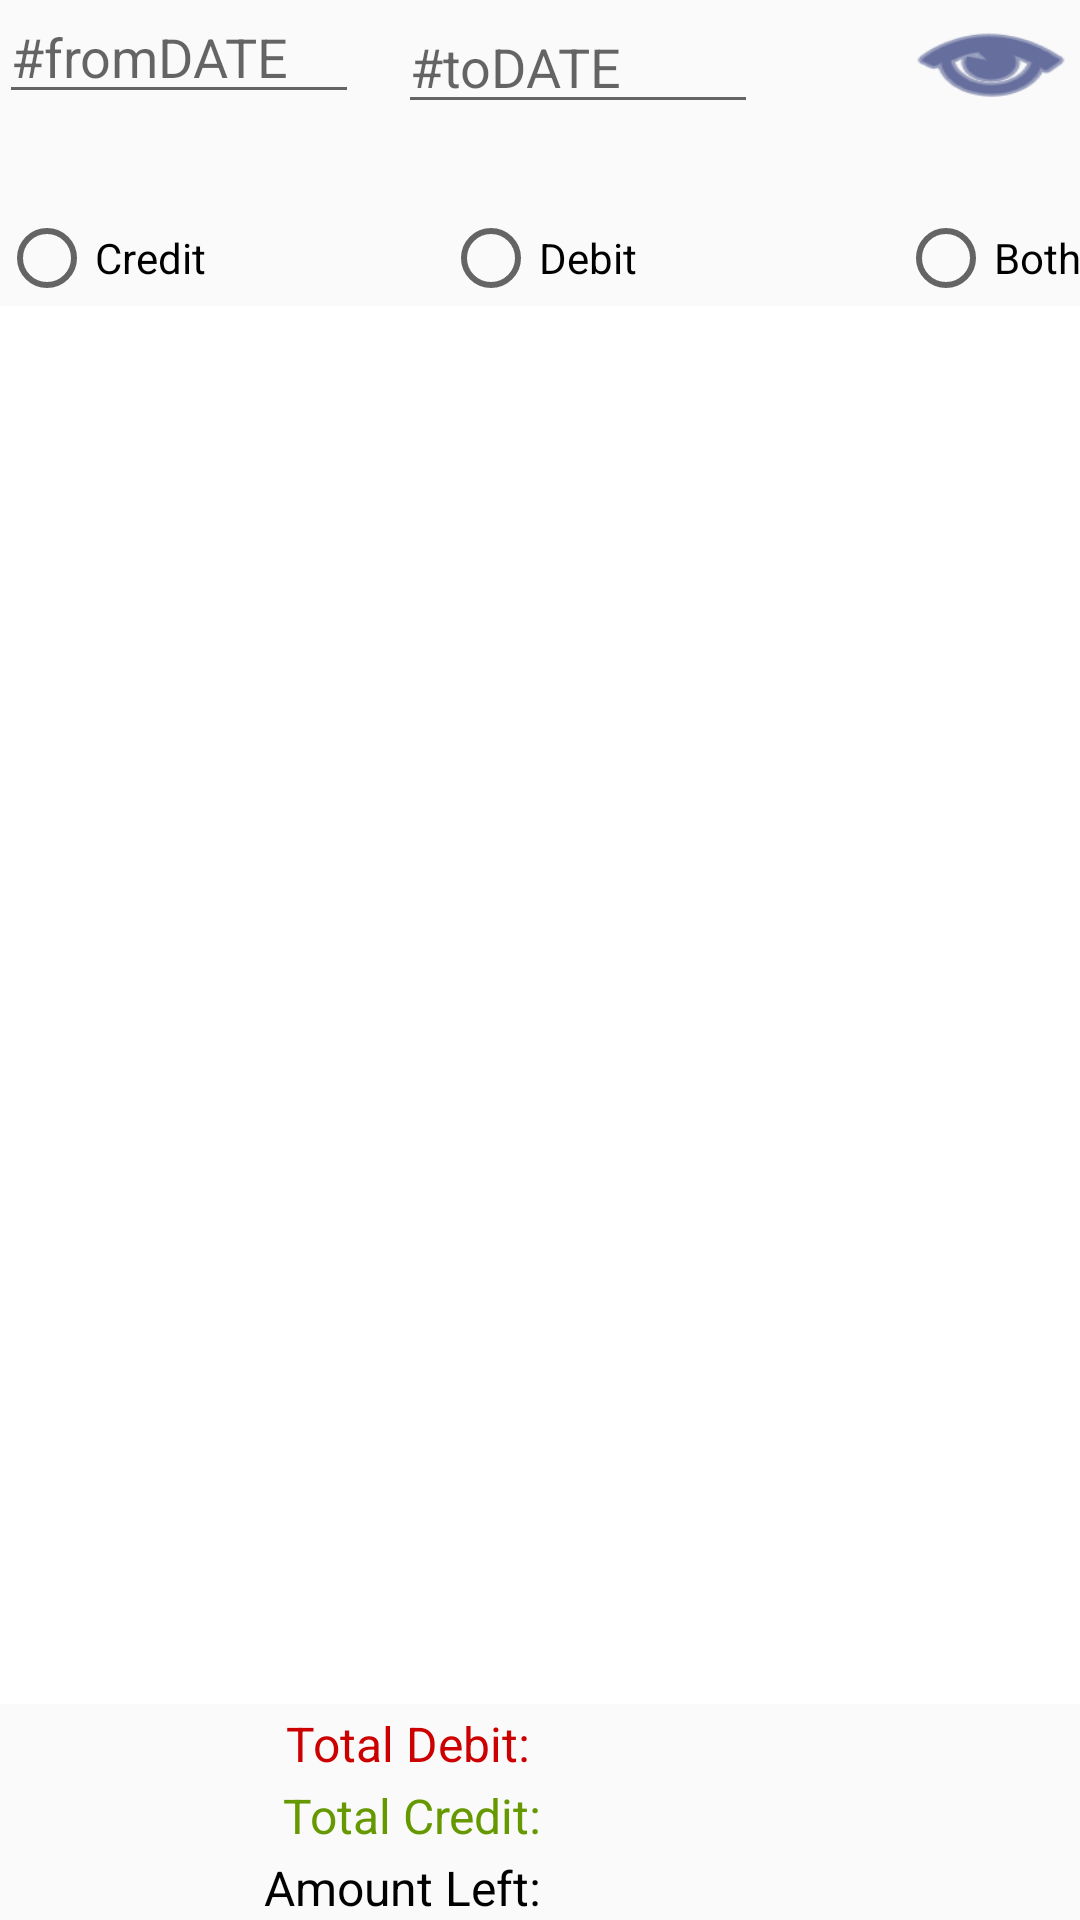

Locate icon controls on the screen. Image size 1080px x 1920px, boxes as [x1,y1,x2,y2].
view: [918,33,1064,97]
